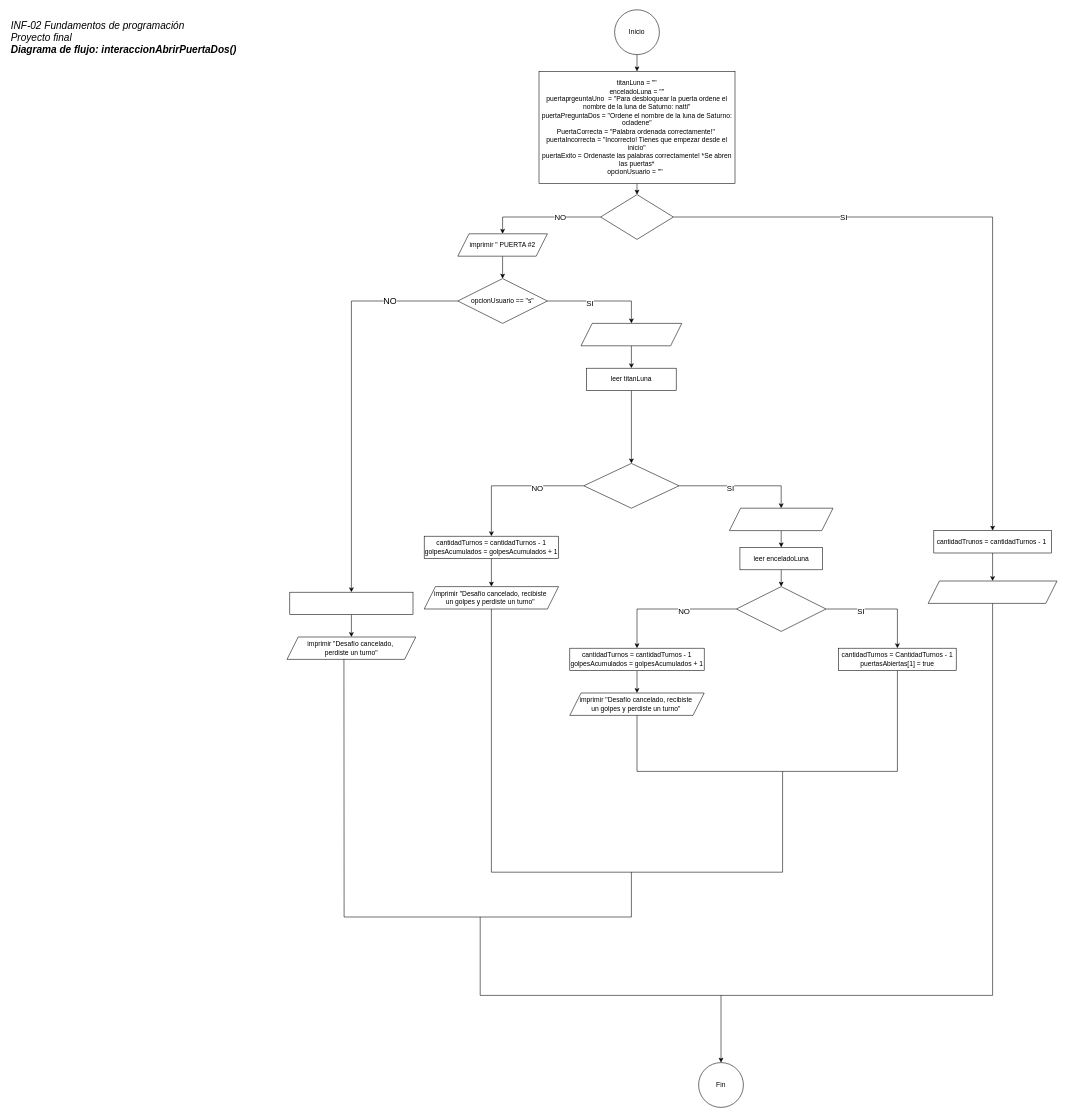
Image size: 1067x1117. Some labels were removed from this diagram. The shapes that lost their labels are listed below. From the top down, each one's box as (x1, y1, x2, y2) in pixels, then its label:
(600, 194, 673, 239): puertasAbiertas[1]
(580, 323, 682, 346): imprimir puertaPreguntaUno
(583, 463, 679, 508): titanLuna == "titan"
(729, 508, 833, 531): imprimir puertaPreguntaDos
(289, 592, 413, 615): cantidadTurnos = cantidad Turnos - 1
(736, 586, 826, 631): encelado == "encelado"
(928, 580, 1057, 603): imprimir "ya completaste esta interacción, perdiste un turno..."
